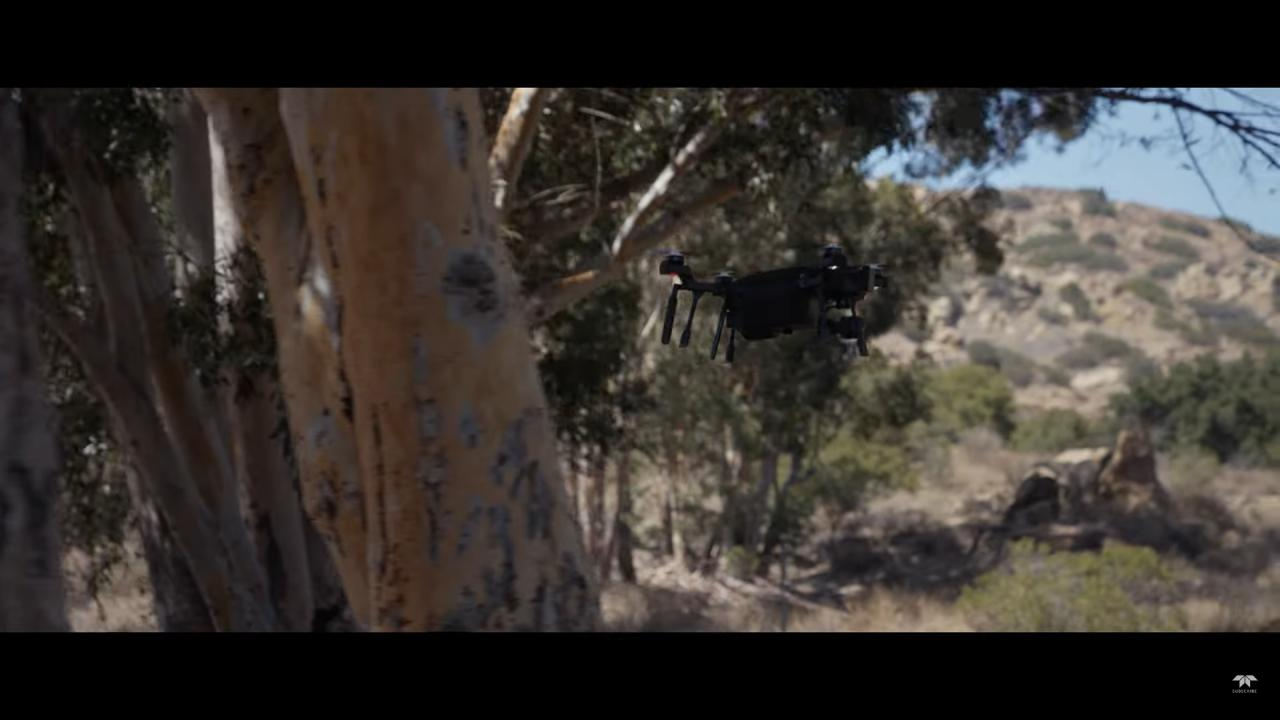Drone: (628, 232, 920, 378)
